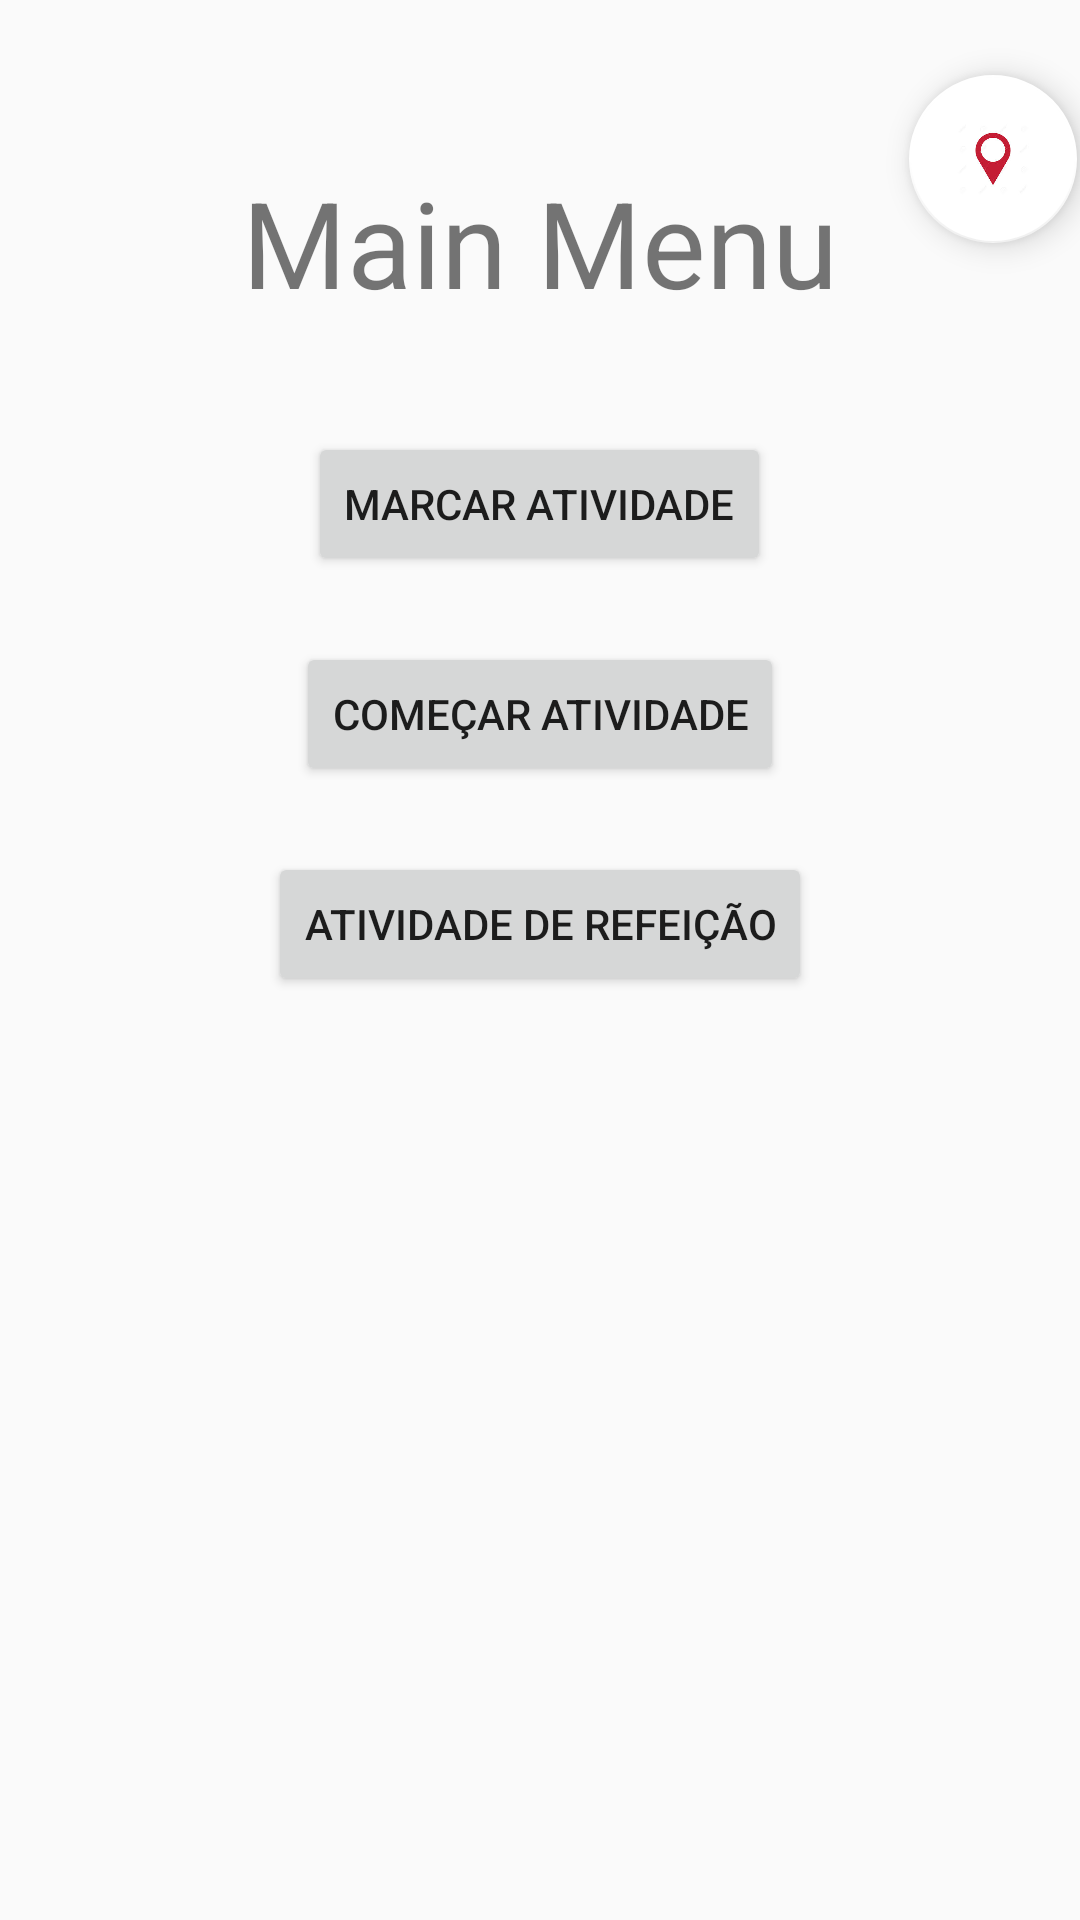

Screen size 1080 × 1920. Icon name, then its center in pixels as (x=x, y=y):
localization: (x=993, y=159)
